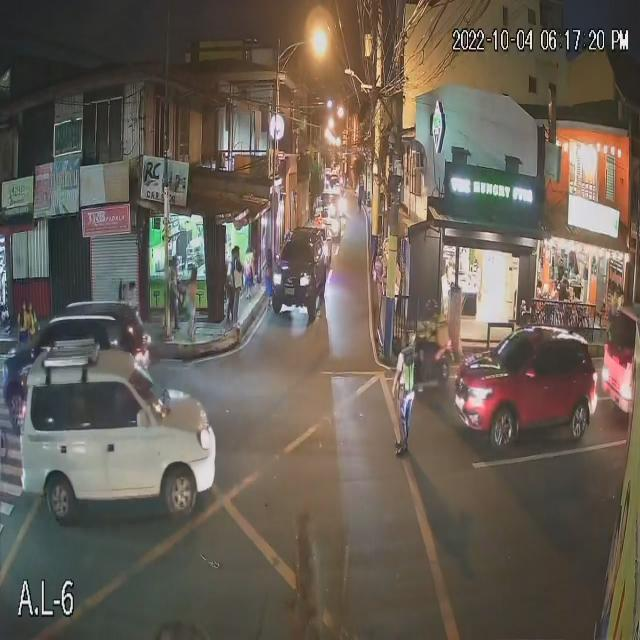motorcycle: (404, 338, 454, 380), (1, 385, 27, 434)
rider: (432, 319, 446, 364)
